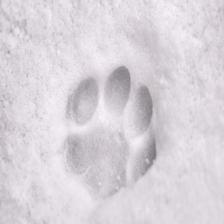cat: (60, 68, 164, 201)
